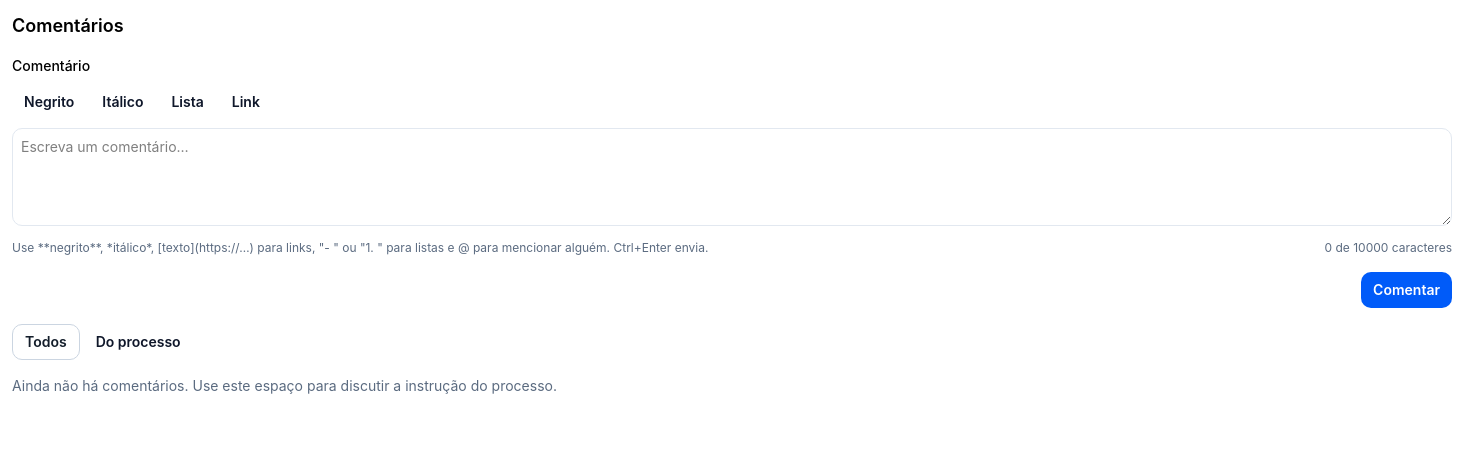
Test case: SCR-006 · aba Comentários (US-071) › [Validação] vazio no front e link javascript: não enviam
This screenshot has width=1464, height=465.
Expected: the text box labelled "Comentário" is shown, x1=12 y1=128 x2=1452 y2=226
Click the button "Comentar": click(1407, 290) x1=1361 y1=272 x2=1452 y2=308
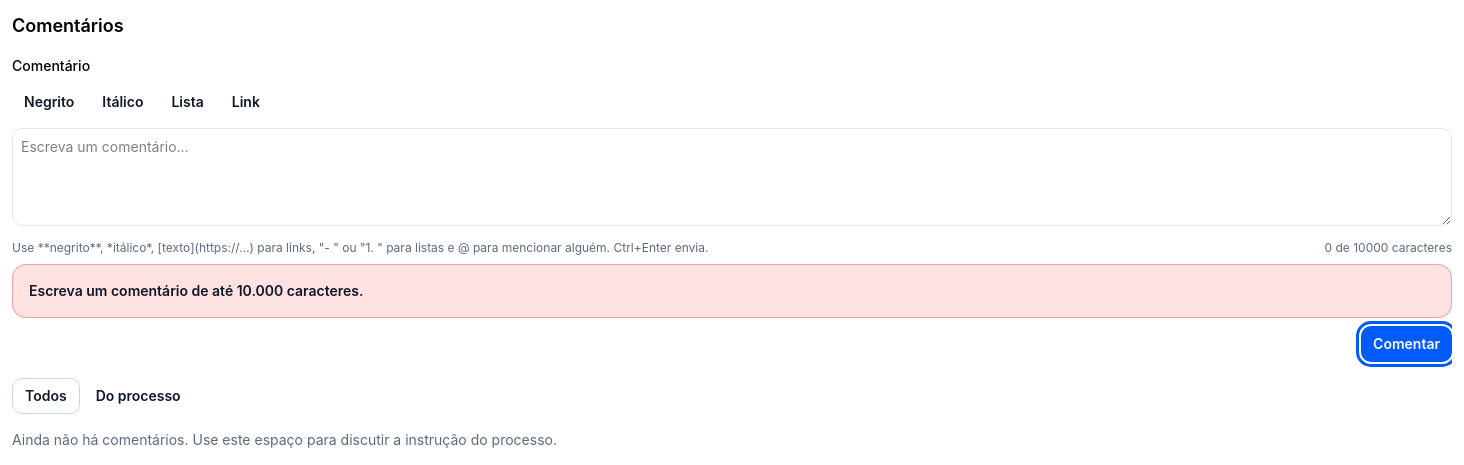
Now the text "Escreva um comentário de até 10.000 caracteres." is shown, box x1=29 y1=282 x2=364 y2=299
